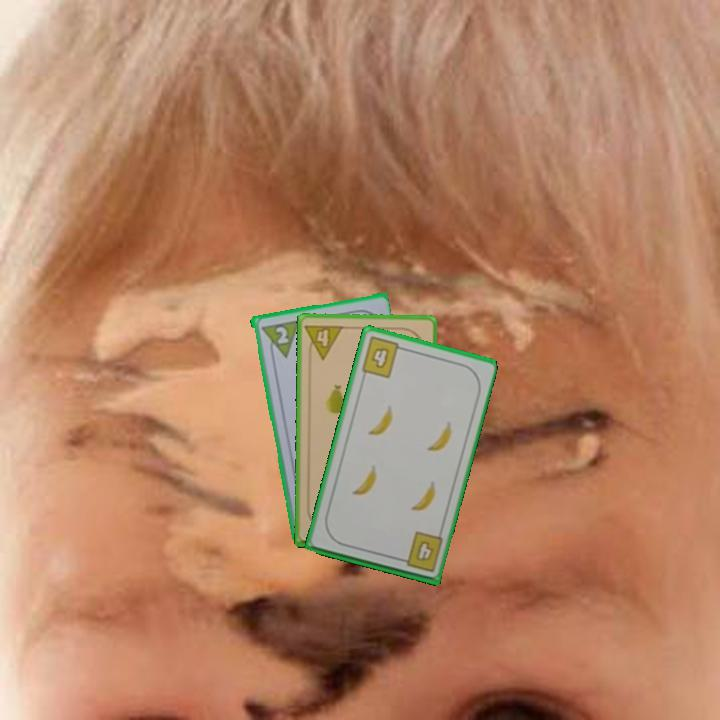2p: (271, 323, 291, 346)
4b: (394, 528, 446, 575), (358, 333, 408, 381)
4p: (302, 321, 346, 362)
